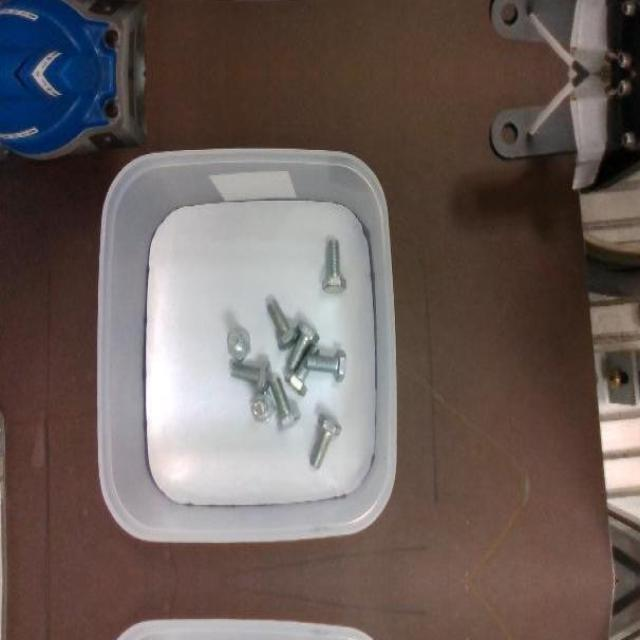screw: (310, 412, 342, 468), (267, 299, 301, 351), (287, 318, 321, 370), (270, 377, 302, 430), (230, 359, 272, 395), (306, 348, 348, 382), (322, 239, 347, 292), (228, 326, 251, 362), (251, 392, 277, 423)
